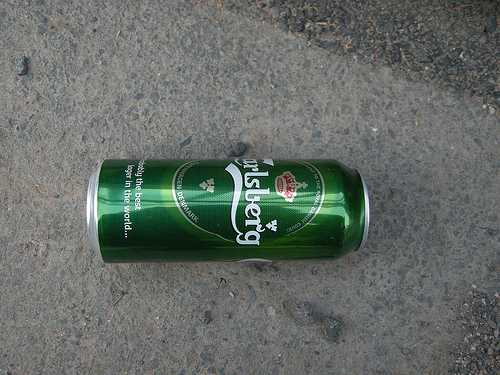litter: (84, 156, 369, 262)
